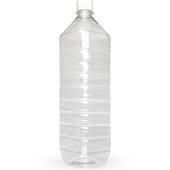pet: (54, 0, 116, 170)
